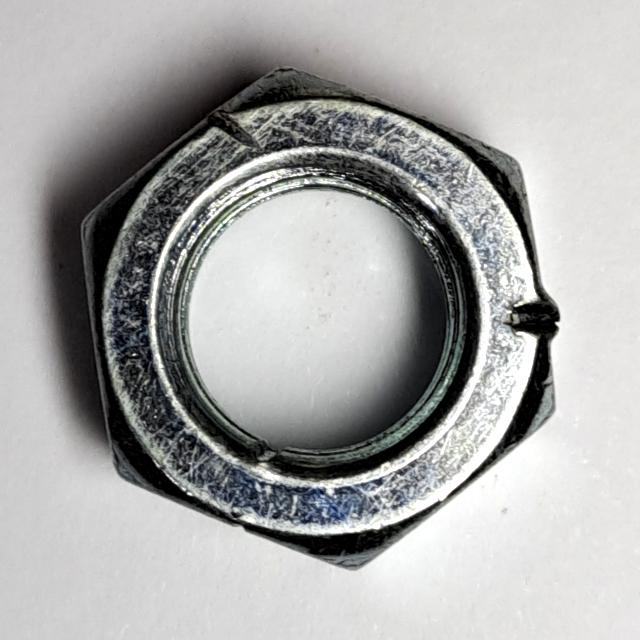Scratches: (64, 46, 581, 584)
